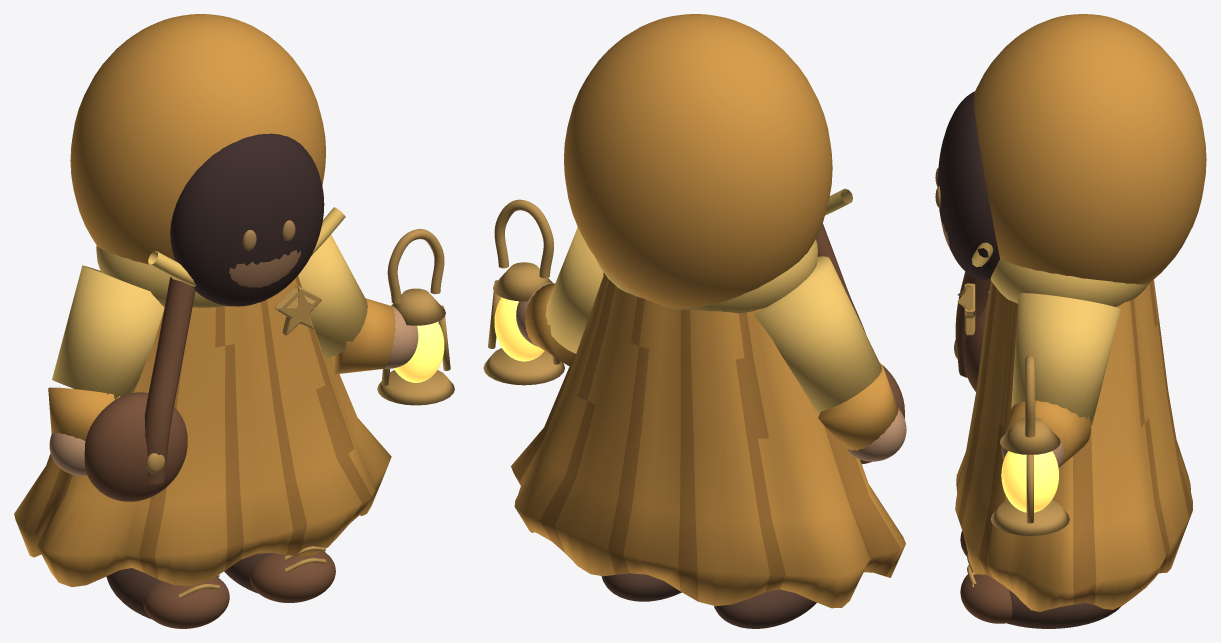
Rendered from momo.glb.
3 renders of one model, left to right at view 1: azimuth 30°, elevation 25°; view 2: azimuth 150°, elevation 25°; view 3: azimuth 270°, elevation 25°, orthographic. The views are drawn at different scales.
Visible parts, largest first — view 1: Momo | sculpted rain cape, Momo | oversized soft hood, Momo | dark hood opening, Momo | raincoat sleeve, Satchel | rounded leather bag, Satchel | crossbody strap, Momo | raincoat sleeve.001, Momo | boot toe.001, Momo | boot toe, Momo | gathered cuff.001, Momo | gathered cuff, Momo | shoulder capelet (+11 smaller); view 2: Momo | sculpted rain cape, Momo | oversized soft hood, Momo | raincoat sleeve, Momo | raincoat sleeve.001, Momo | gathered cuff, Momo | shoulder capelet, Momo | leather boot, Lantern | lower foot, Lantern | carry loop, Momo | gathered cuff.001, Lantern | luminous glass, Momo | leather boot.001 (+3 smaller); view 3: Momo | oversized soft hood, Momo | sculpted rain cape, Momo | raincoat sleeve.001, Momo | dark hood opening, Momo | shoulder capelet, Lantern | luminous glass, Momo | gathered cuff.001, Momo | leather boot.001, Momo | boot toe.001, Lantern | lower foot, Lantern | upper crown, Satchel | crossbody strap (+4 smaller).
Part boxes in pixels (x1,y1,x2,y2): Momo | sculpted rain cape: [14, 276, 391, 587]; Momo | oversized soft hood: [70, 14, 325, 264]; Momo | dark hood opening: [170, 133, 324, 306]; Momo | raincoat sleeve: [52, 265, 164, 399]; Satchel | rounded leather bag: [84, 392, 187, 501]; Satchel | crossbody strap: [144, 277, 195, 484]; Momo | raincoat sleeve.001: [298, 219, 367, 358]; Momo | boot toe.001: [249, 551, 335, 602]; Momo | boot toe: [143, 577, 229, 628]; Momo | gathered cuff.001: [332, 298, 395, 374]; Momo | gathered cuff: [48, 387, 120, 440]; Momo | shoulder capelet: [96, 245, 227, 307]; Momo | sculpted rain cape: [511, 272, 905, 608]; Momo | oversized soft hood: [564, 14, 832, 307]; Momo | raincoat sleeve: [754, 256, 881, 412]; Momo | raincoat sleeve.001: [545, 227, 603, 353]; Momo | gathered cuff: [818, 363, 898, 450]; Momo | shoulder capelet: [595, 239, 817, 313]; Momo | leather boot: [714, 589, 816, 628]; Lantern | lower foot: [483, 348, 564, 385]; Lantern | carry loop: [494, 199, 553, 278]; Momo | gathered cuff.001: [525, 283, 574, 365]; Lantern | luminous glass: [494, 297, 544, 361]; Momo | leather boot.001: [601, 573, 681, 601]; Momo | oversized soft hood: [973, 14, 1206, 284]; Momo | sculpted rain cape: [955, 279, 1192, 611]; Momo | raincoat sleeve.001: [1011, 293, 1120, 426]; Momo | dark hood opening: [937, 91, 999, 279]; Momo | shoulder capelet: [990, 259, 1149, 306]; Lantern | luminous glass: [1001, 451, 1058, 512]; Momo | gathered cuff.001: [1005, 400, 1091, 466]; Momo | leather boot.001: [1007, 589, 1121, 628]; Momo | boot toe.001: [960, 574, 1012, 623]; Lantern | lower foot: [991, 500, 1069, 535]; Lantern | upper crown: [1000, 417, 1060, 454]; Satchel | crossbody strap: [955, 271, 990, 377].
Bounding box in the file's own units: 1.55 × 2.08 × 0.892.
